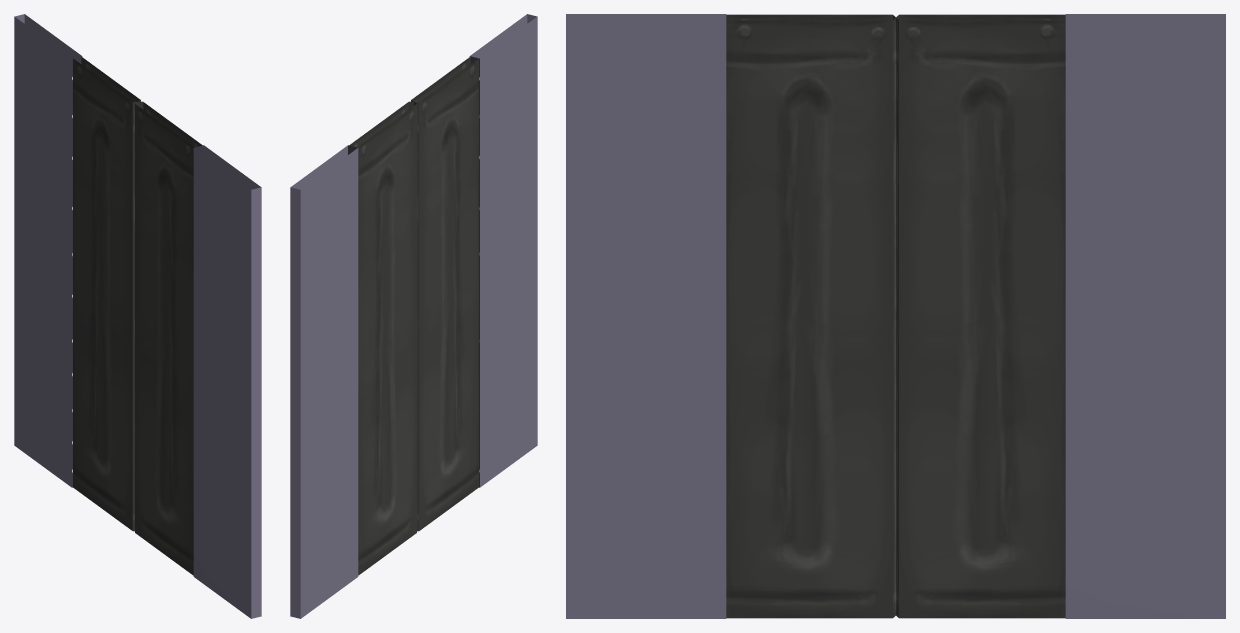
The model's file is door01.fbx.
The picture shows the model from 3 angles, left to right: view 1: azimuth 30°, elevation 25°; view 2: azimuth 150°, elevation 25°; view 3: azimuth 270°, elevation 25°; orthographic projection. The views are drawn at different scales.
Parts seen in each view (by area): view 1: door01_single_frame, door01_singleR, door01_singleL; view 2: door01_single_frame, door01_singleL, door01_singleR; view 3: door01_single_frame, door01_singleR, door01_singleL.
Boxes of the visible parts, x1,y1,x2,y2 form: door01_single_frame: (14,14,261,618); door01_singleR: (73,56,140,531); door01_singleL: (135,101,202,575); door01_single_frame: (290,14,537,618); door01_singleL: (411,56,478,531); door01_singleR: (349,101,416,575); door01_single_frame: (566,14,1225,618); door01_singleR: (896,14,1065,618); door01_singleL: (726,14,895,618).
Size of the model in its own units: 0.05 by 2 by 2.
